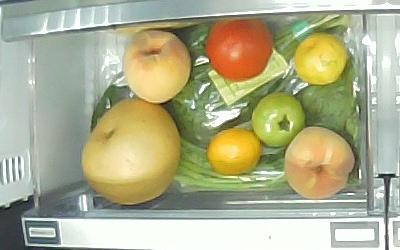peach: (121, 28, 192, 106), (283, 126, 356, 198)
pear: (79, 96, 181, 207)
tangerine: (294, 32, 347, 85), (207, 128, 262, 176)
tomato: (206, 17, 274, 80), (252, 93, 306, 147)
